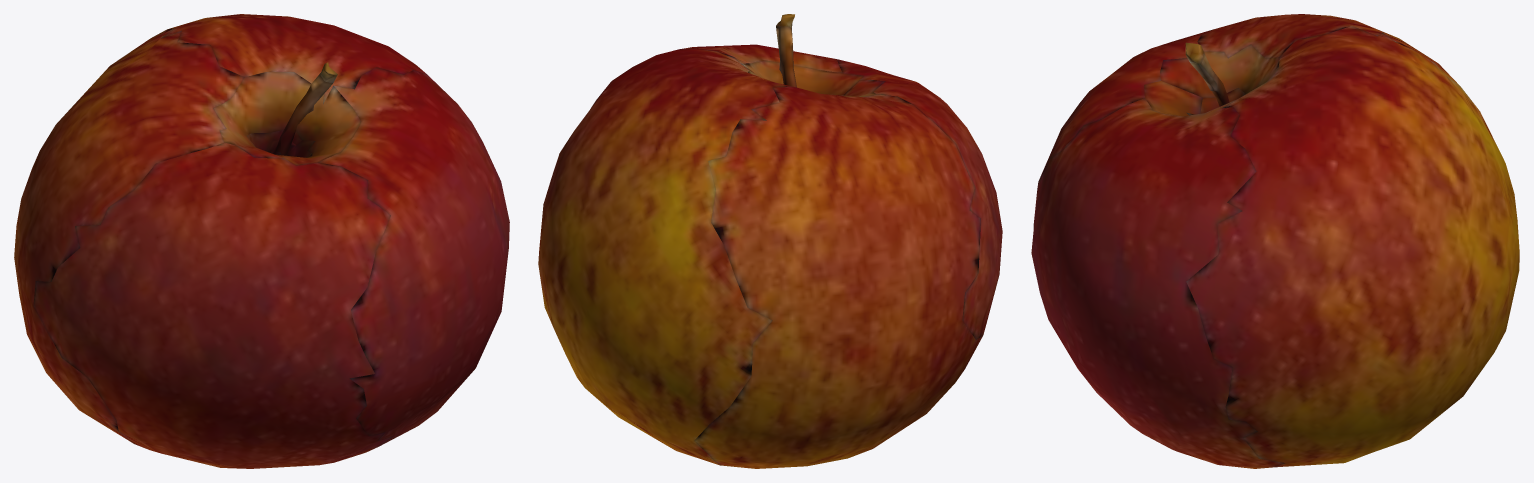
File: food_apple_01.glb
3 renders of one model, left to right at view 1: azimuth 30°, elevation 25°; view 2: azimuth 150°, elevation 25°; view 3: azimuth 270°, elevation 25°, orthographic. The views are drawn at different scales.
Parts seen in each view (by area): view 1: body; view 2: body; view 3: body.
Boxes of the visible parts, x1,y1,x2,y2 form: body: (14,14,509,468); body: (538,14,1002,468); body: (1031,14,1519,468).
Bounding box in the file's own units: 0.0969 × 0.0852 × 0.0958.
Materials: 1 (1 with a texture image).
